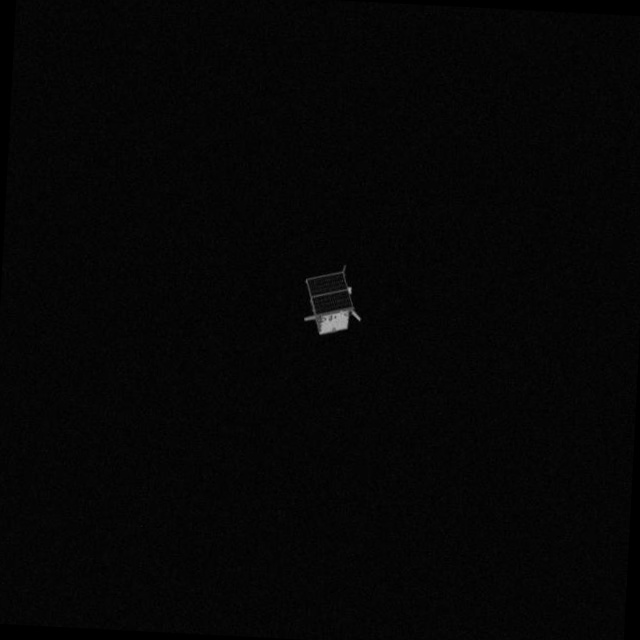medium_debris: (290, 256, 374, 332)
